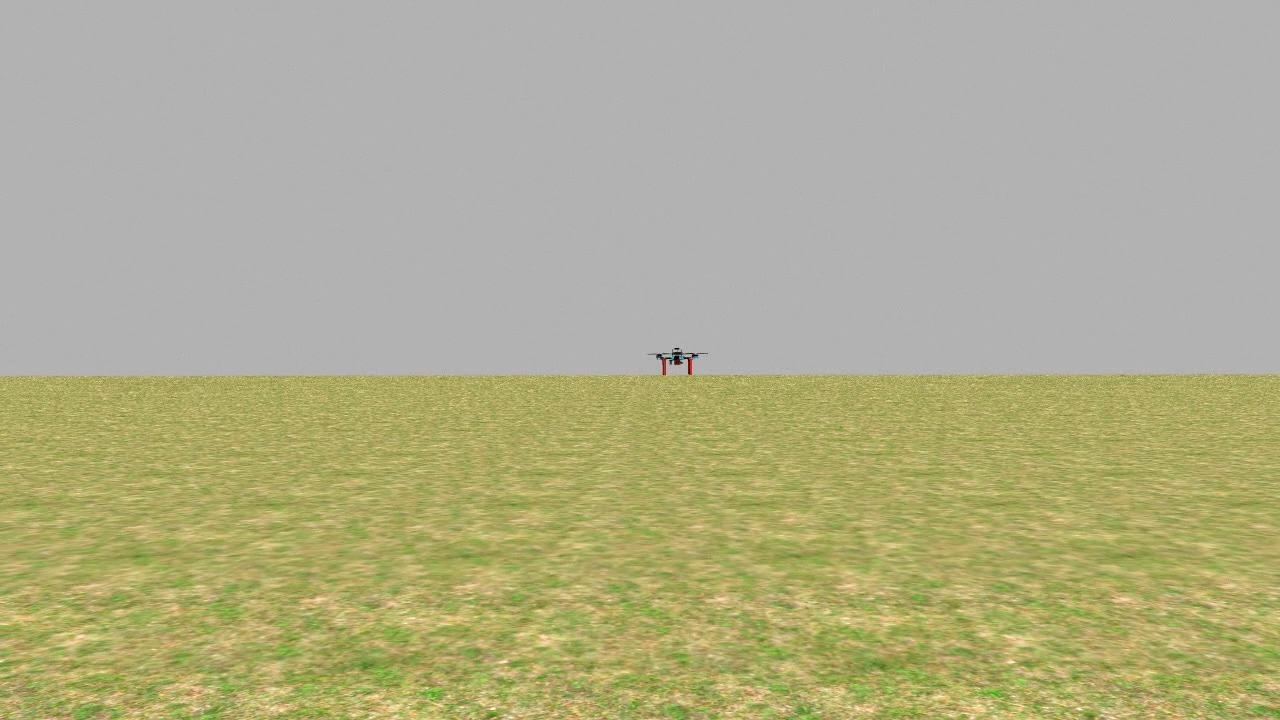UAV: (641, 336, 717, 382)
